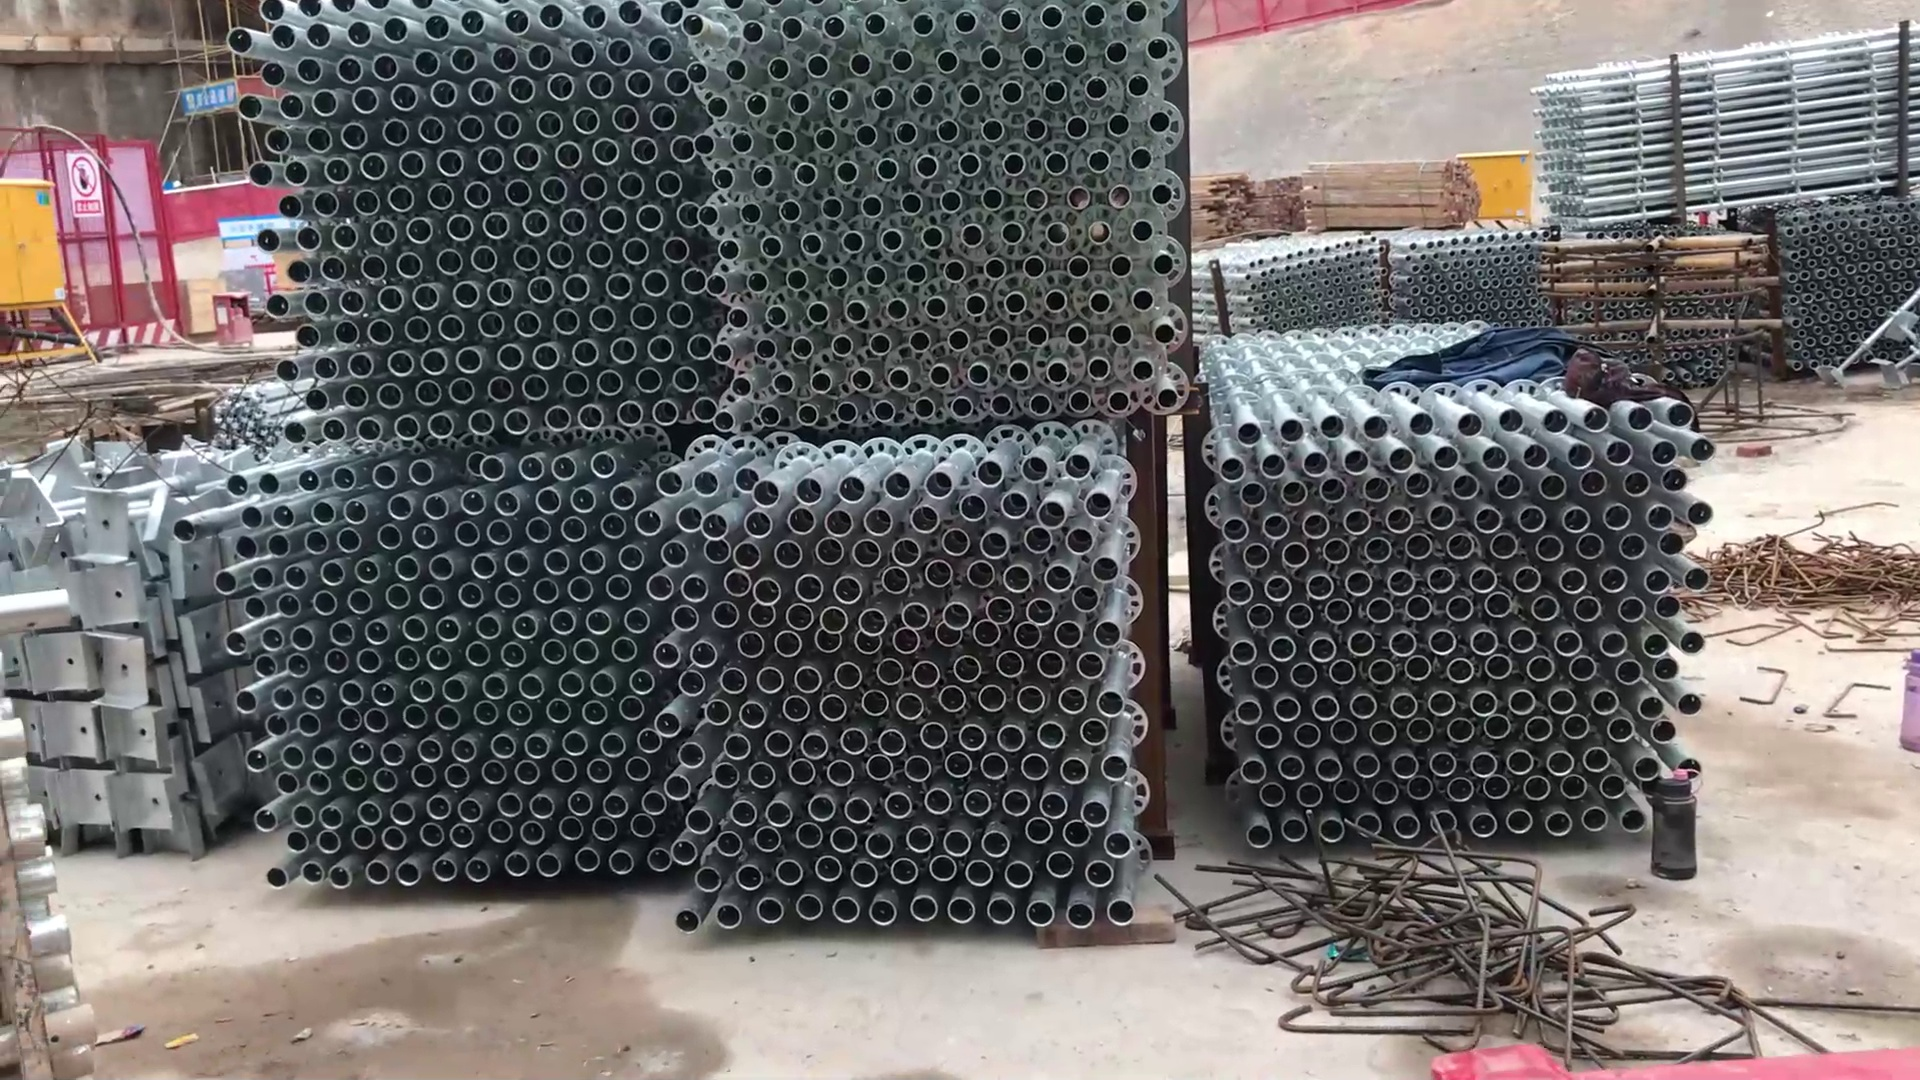ebox: (1448, 146, 1538, 237)
fence: (49, 131, 179, 345)
rebar: (1222, 835, 1785, 1054), (1722, 500, 1920, 654)
scaffold: (243, 7, 1188, 956), (1208, 323, 1692, 844), (15, 439, 276, 853), (1530, 22, 1907, 220), (1556, 235, 1778, 400), (1215, 243, 1542, 322), (1788, 212, 1919, 382)
slogan: (58, 148, 109, 223), (178, 75, 236, 112)
wood: (1303, 153, 1481, 233), (1197, 161, 1308, 244)
